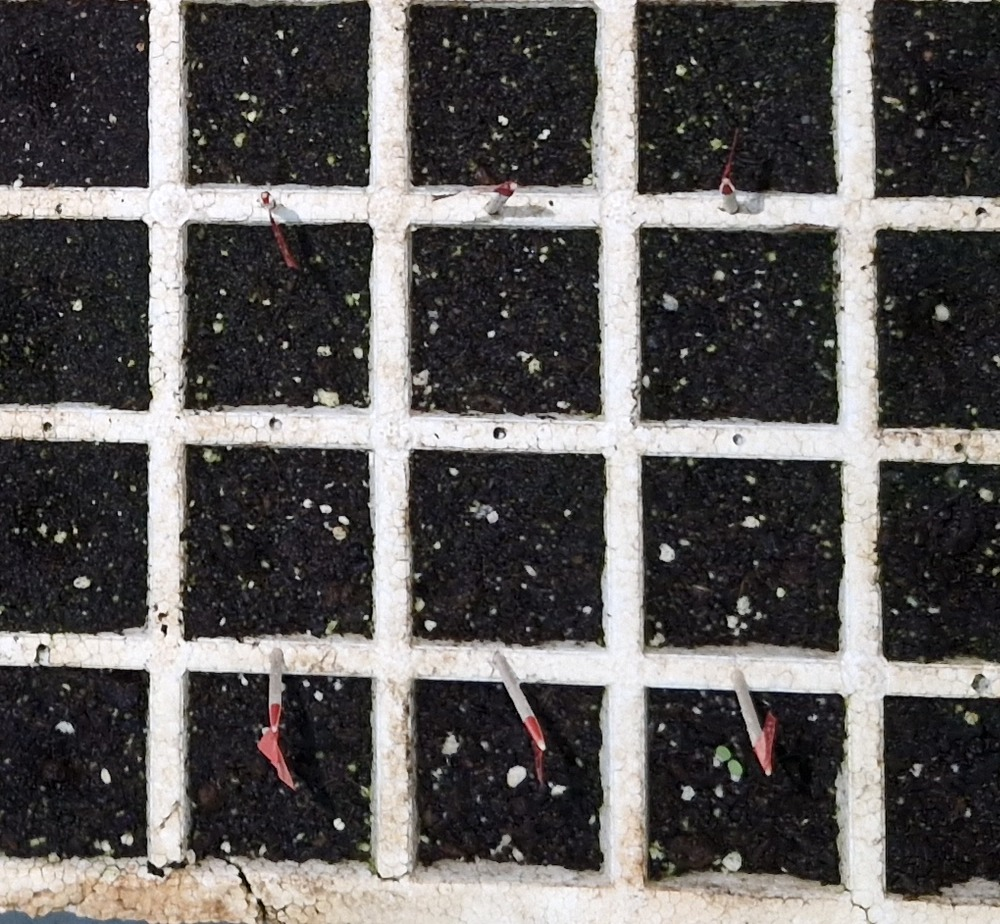Folha: (728, 759, 743, 775), (717, 746, 731, 760)
Germinacao: (717, 746, 744, 777)
